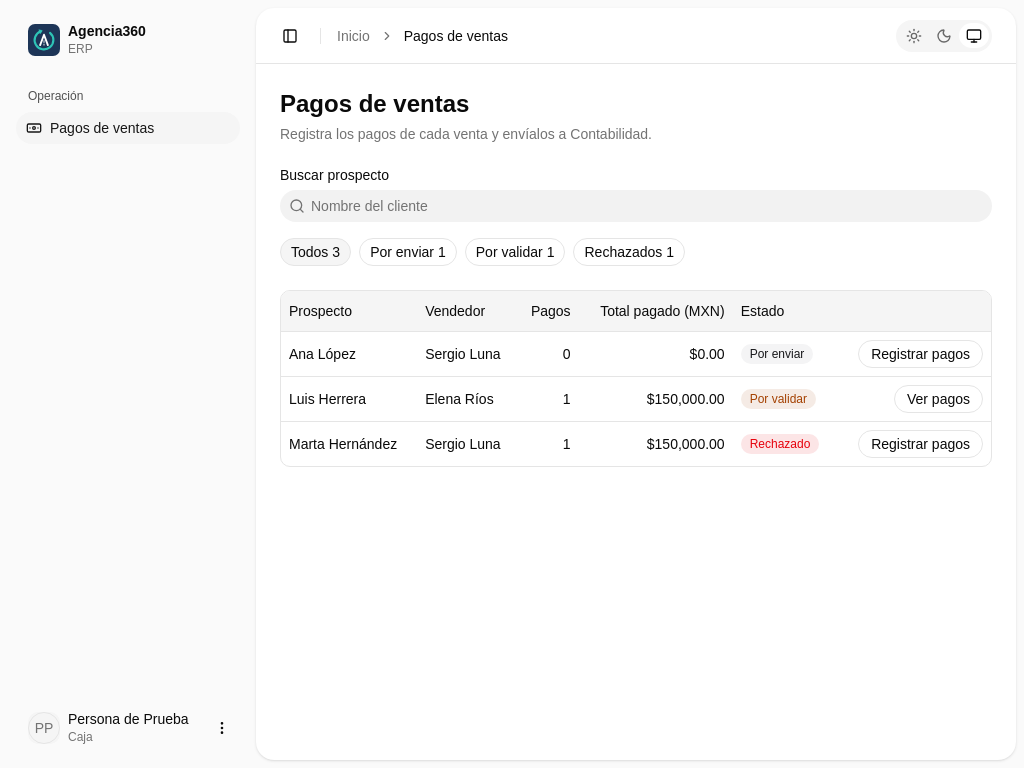
Test: Pagos de ventas · Caja › registra un pago y lo ve en la lista de pagos
Click the button named "Registrar pagos de Ana López": (921, 354) top-left (858, 340), bottom-right (983, 368)
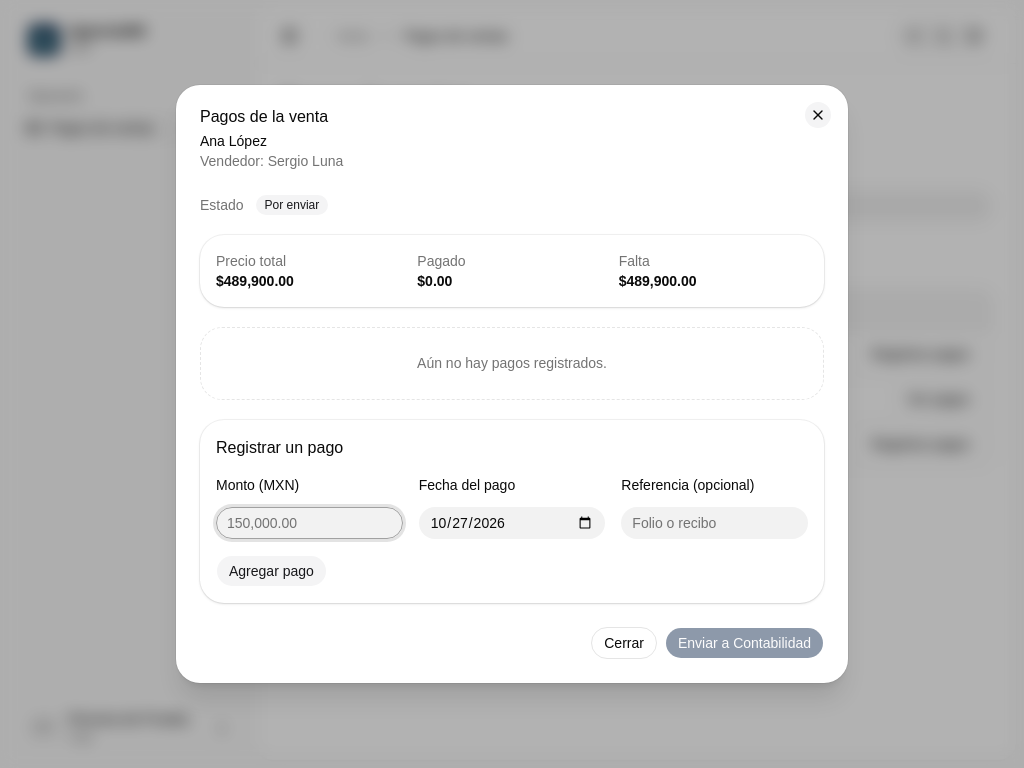
Expected: the dialog "Pagos de la venta" shows "Aún no hay pagos registrados.", top-left (417, 355), bottom-right (607, 371)
Expected: the button "Enviar a Contabilidad" is disabled, top-left (665, 627), bottom-right (824, 659)
In the field labelled "Monto (MXN)": (309, 523) top-left (216, 507), bottom-right (403, 539), type "$150,000"
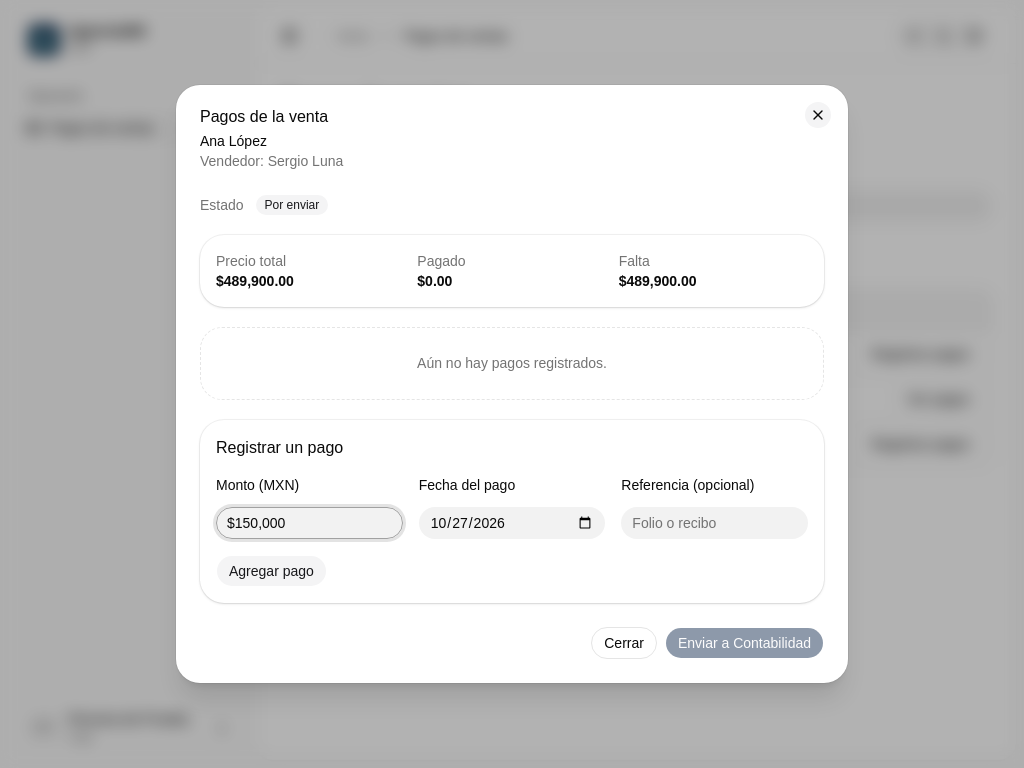
Click the button "Agregar pago": (271, 571) top-left (216, 555), bottom-right (327, 587)
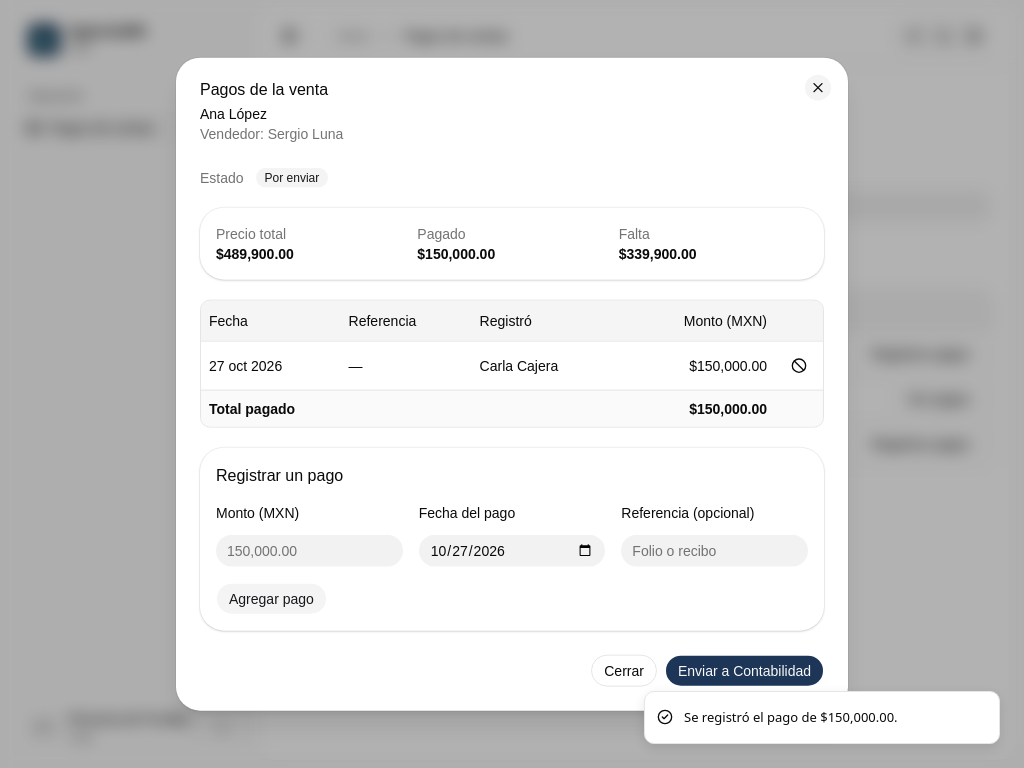
Expected: the text "Se registró el pago de $150,000.00." is shown, top-left (684, 708), bottom-right (898, 727)
Expected: the field labelled "Monto (MXN)" is empty, top-left (216, 534), bottom-right (403, 566)
Expected: the button "Enviar a Contabilidad" is enabled, top-left (665, 654), bottom-right (824, 686)
